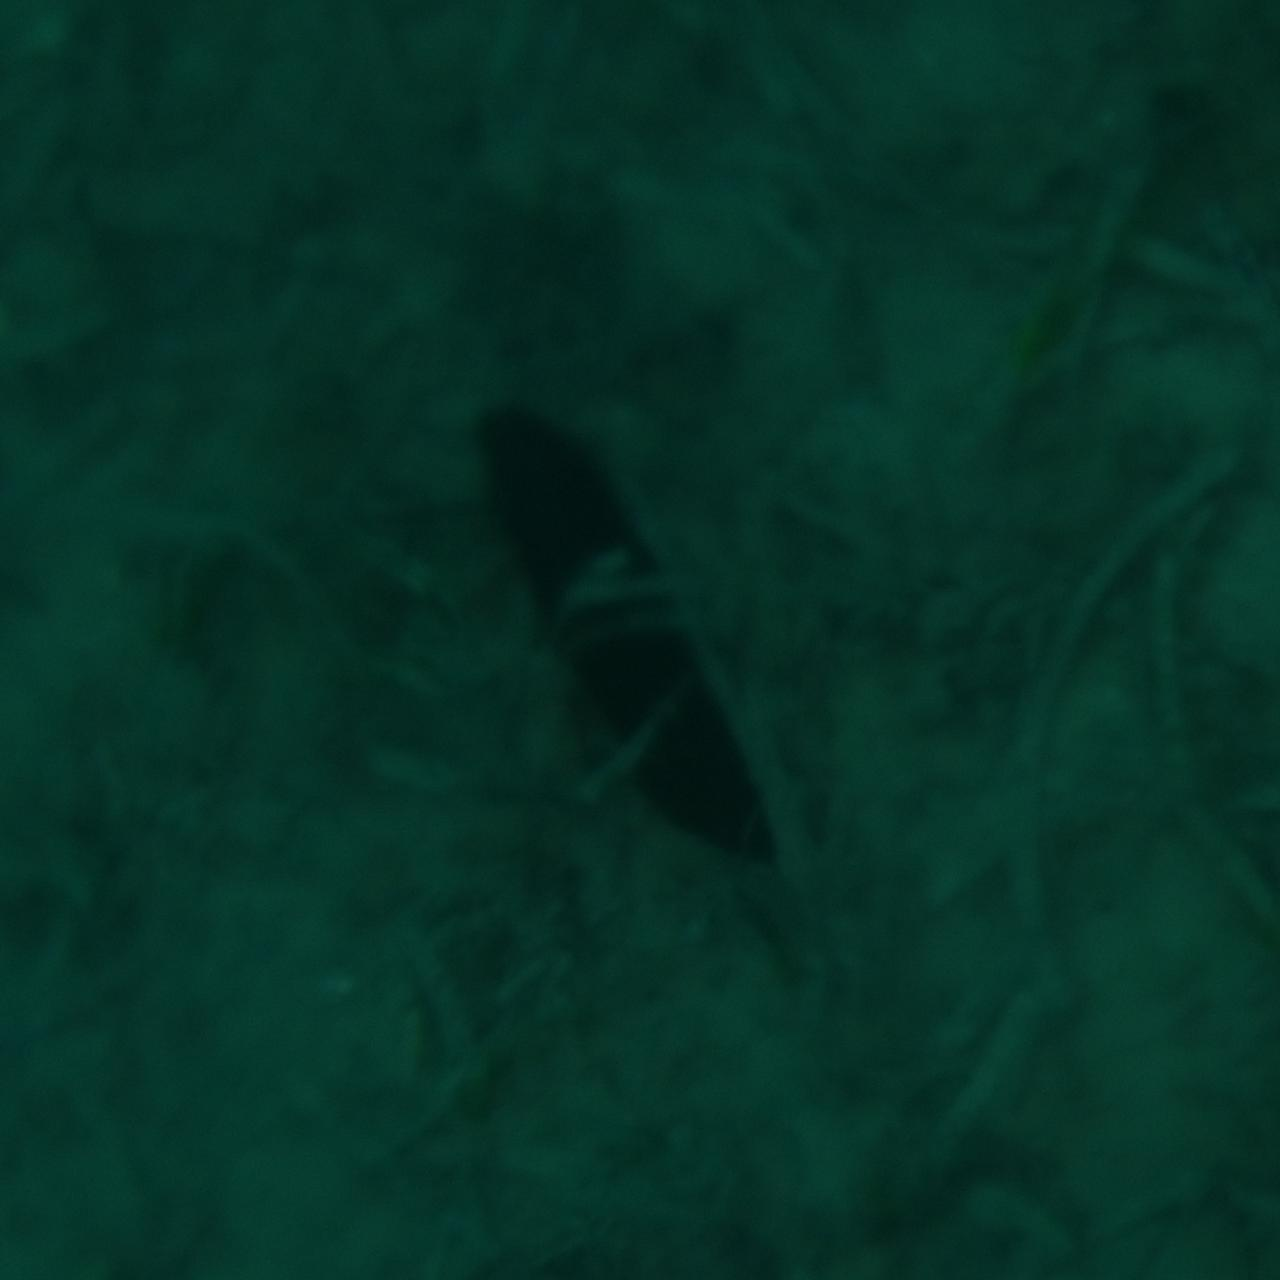Holothuria tubulosa: (480, 392, 800, 888)
